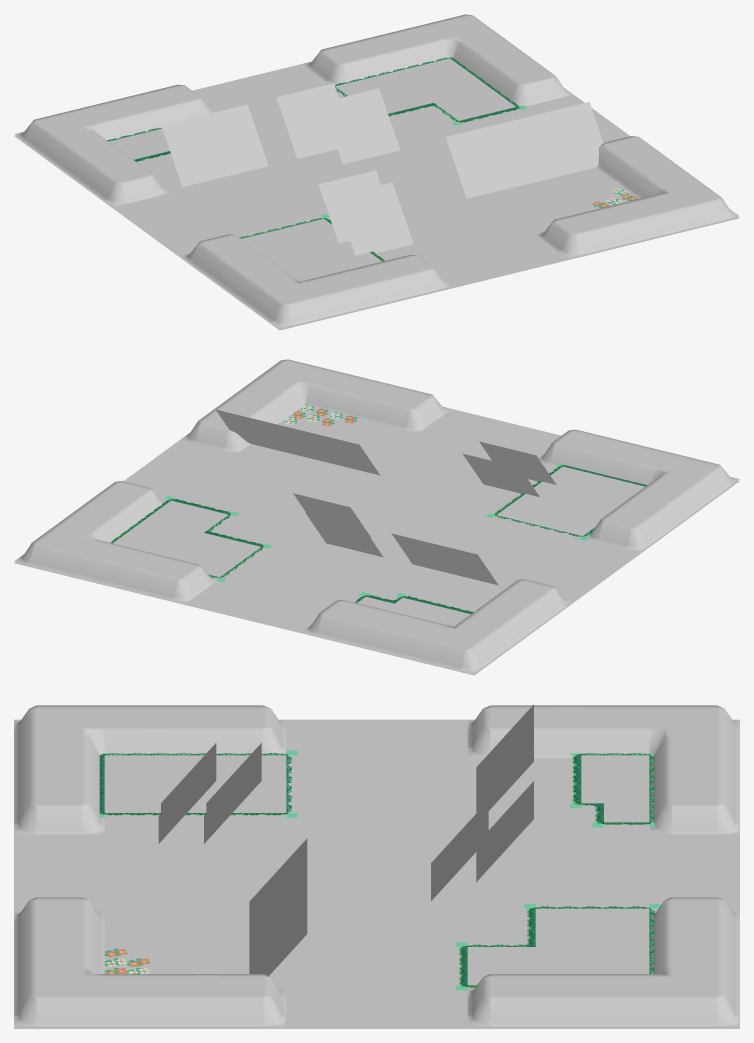
The model's file is Safari Zone_Areas - Plains.dae.
3 renders of one model, top to bottom at view 1: azimuth 30°, elevation 25°; view 2: azimuth 150°, elevation 25°; view 3: azimuth 270°, elevation 25°, orthographic. The views are drawn at different scales.
Parts seen in each view (by area): view 1: m_saf01_00_00c; view 2: m_saf01_00_00c; view 3: m_saf01_00_00c.
Boxes of the visible parts, x1=… form: m_saf01_00_00c: x1=14, y1=14, x2=739, y2=330; m_saf01_00_00c: x1=14, y1=359, x2=739, y2=675; m_saf01_00_00c: x1=14, y1=704, x2=739, y2=1028.
Bounding box in the file's own units: 512 × 512 × 51.34.
